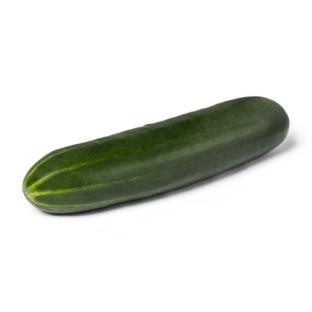Cucumber: (23, 97, 288, 213)
